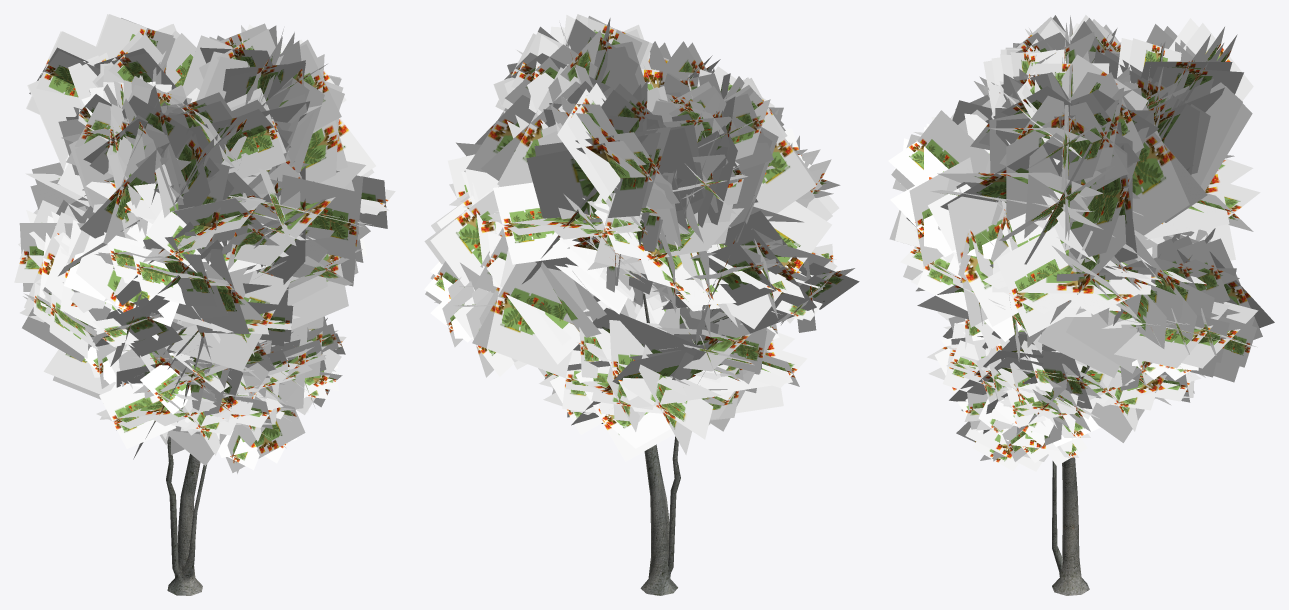
Rendered from Tulipan_africano.fbx.
3 renders of one model, left to right at view 1: azimuth 30°, elevation 25°; view 2: azimuth 150°, elevation 25°; view 3: azimuth 270°, elevation 25°, orthographic. The views are drawn at different scales.
Visible parts, largest first — view 1: tulipanAfricano_LOD0; view 2: tulipanAfricano_LOD0; view 3: tulipanAfricano_LOD0.
Part boxes in pixels (x1,y1,x2,y2): tulipanAfricano_LOD0: (14,14,395,595); tulipanAfricano_LOD0: (424,14,859,595); tulipanAfricano_LOD0: (888,15,1274,595).
Size of what is drawn, in the model's own units: 8.07 by 11.44 by 7.13.
